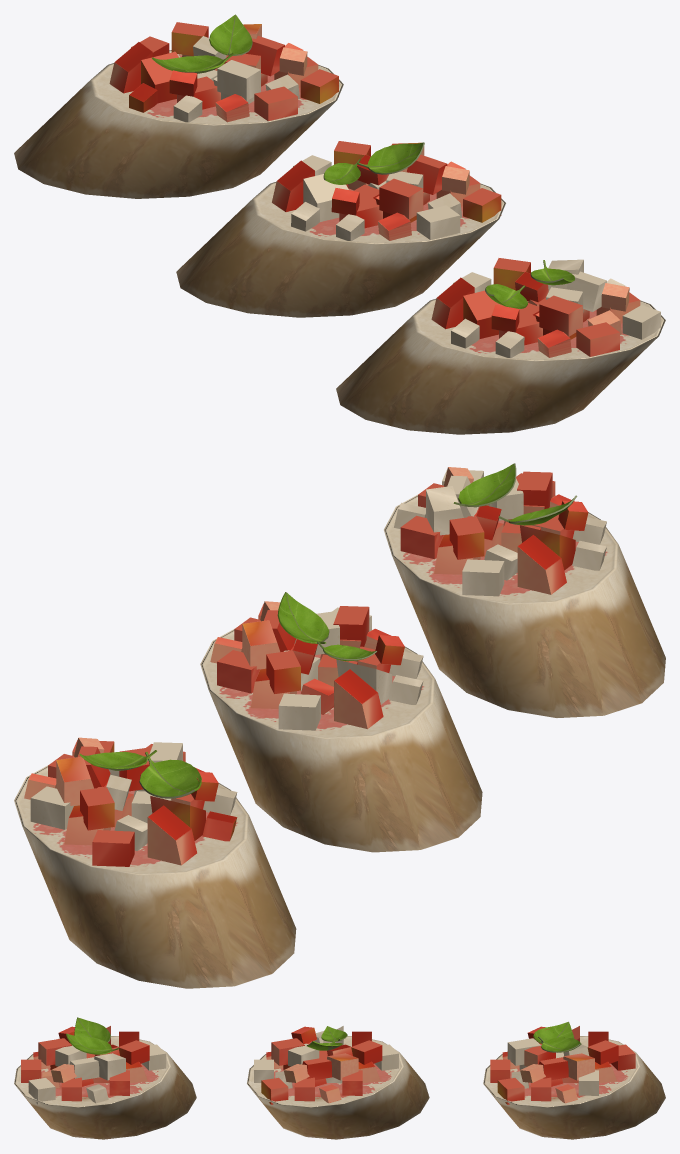
File: bruschettasFull.glb
3 renders of one model, top to bottom at view 1: azimuth 30°, elevation 25°; view 2: azimuth 150°, elevation 25°; view 3: azimuth 270°, elevation 25°, orthographic. The views are drawn at different scales.
Visible parts, largest first — view 1: Tomate, Pan_1, Pan_2, Pan_3, Queso, Albahaca; view 2: Tomate, Pan_3, Pan_1, Pan_2, Queso, Albahaca; view 3: Tomate, Pan_1, Pan_2, Pan_3, Queso, Albahaca.
Boxes of the visible parts, box(x1,y1,x2,y2) form: Tomate: box(109, 22, 640, 357); Pan_1: box(14, 50, 343, 198); Pan_2: box(176, 182, 505, 317); Pan_3: box(336, 299, 665, 434); Queso: box(173, 36, 660, 357); Albahaca: box(152, 14, 574, 308); Tomate: box(24, 467, 588, 866); Pan_3: box(384, 494, 665, 717); Pan_1: box(14, 765, 296, 988); Pan_2: box(200, 629, 482, 852); Queso: box(30, 469, 606, 851); Albahaca: box(79, 463, 577, 798); Tomate: box(21, 1026, 635, 1104); Pan_1: box(483, 1036, 665, 1139); Pan_2: box(247, 1036, 429, 1139); Pan_3: box(14, 1036, 196, 1139); Queso: box(28, 1026, 598, 1104); Albahaca: box(66, 1017, 581, 1054).
Size of the model in its own units: 0.7015 by 0.3414 by 2.07.
4 materials, 4 textured.
